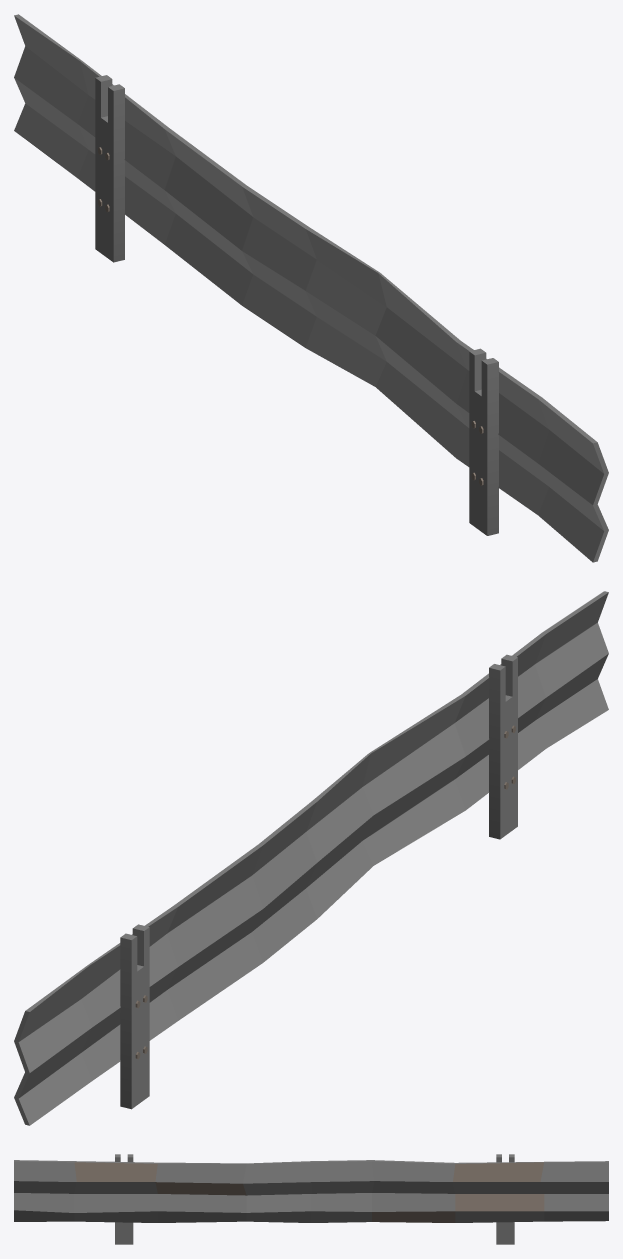
Rendered from model_road_barrier_05.fbx.
The picture shows the model from 3 angles, top to bottom: view 1: azimuth 30°, elevation 25°; view 2: azimuth 150°, elevation 25°; view 3: azimuth 270°, elevation 25°; orthographic projection. The views are drawn at different scales.
Visible parts, largest first — view 1: model_road_barrier_05; view 2: model_road_barrier_05; view 3: model_road_barrier_05.
Part boxes in pixels (bbox=[...]): model_road_barrier_05: bbox=[14, 14, 608, 562]; model_road_barrier_05: bbox=[14, 591, 608, 1125]; model_road_barrier_05: bbox=[14, 1154, 608, 1244].
Bounding box in the file's own units: 25.08 × 118 × 724.
Materials: 1 (1 with a texture image).
